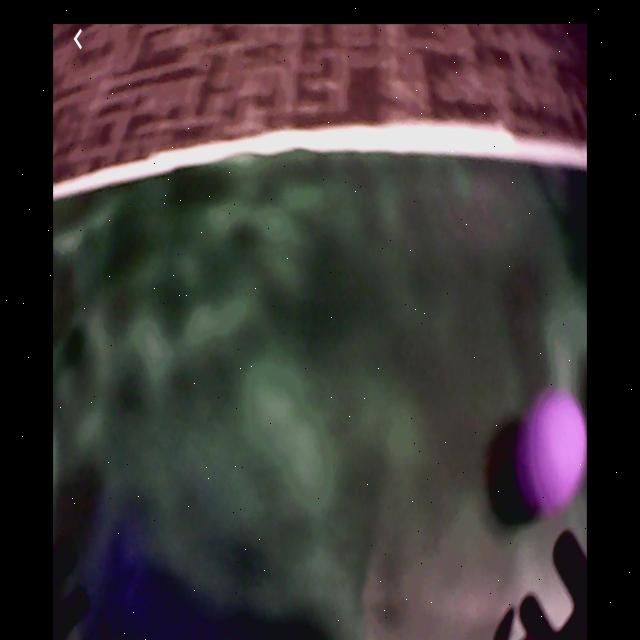ball: (518, 393, 588, 517)
